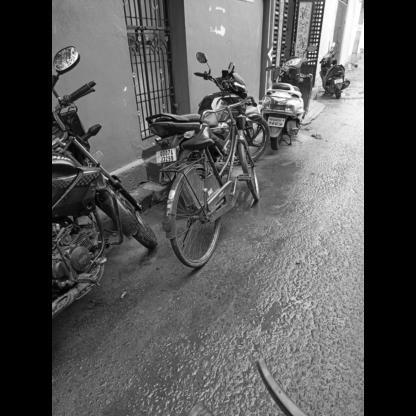Bicycle: (148, 82, 277, 277)
